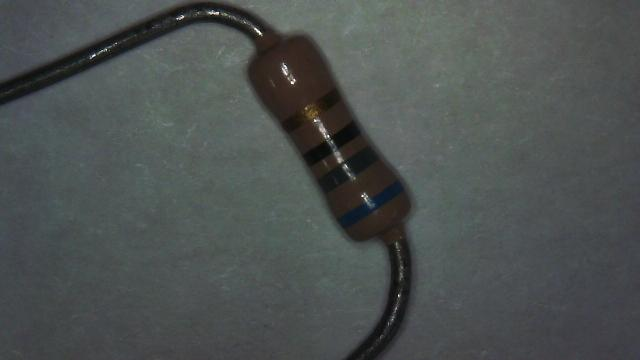black: (303, 122, 360, 166)
blue: (338, 180, 403, 228)
gold: (282, 88, 342, 132)
grey: (317, 146, 378, 192)
resistor: (212, 11, 431, 263)
